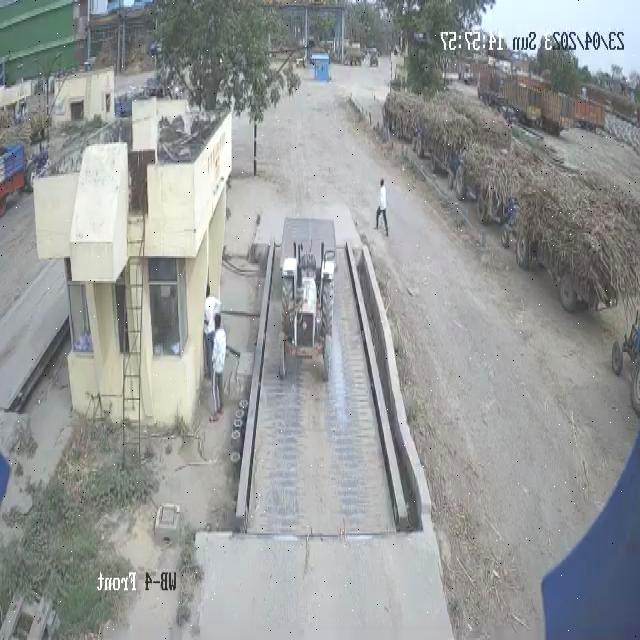Tratores - v5 YOLO V8L 2024-11-13: (278, 256, 337, 384)
